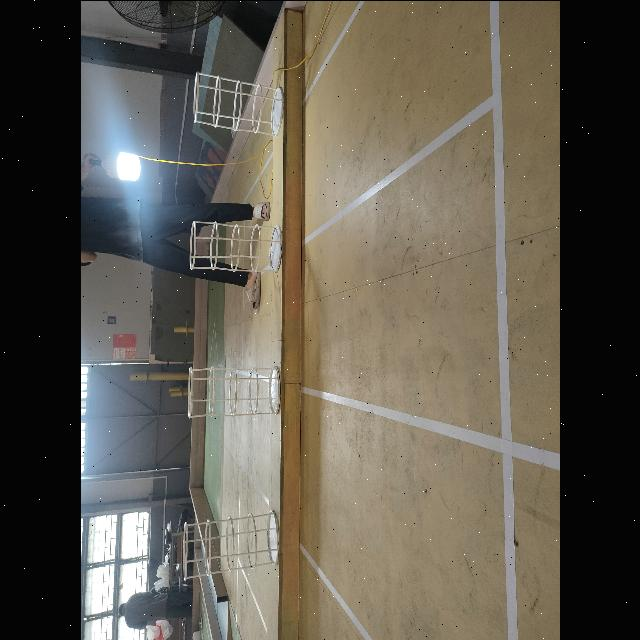S: (175, 509, 282, 577), (190, 70, 280, 136), (186, 363, 284, 419), (186, 220, 288, 272)
